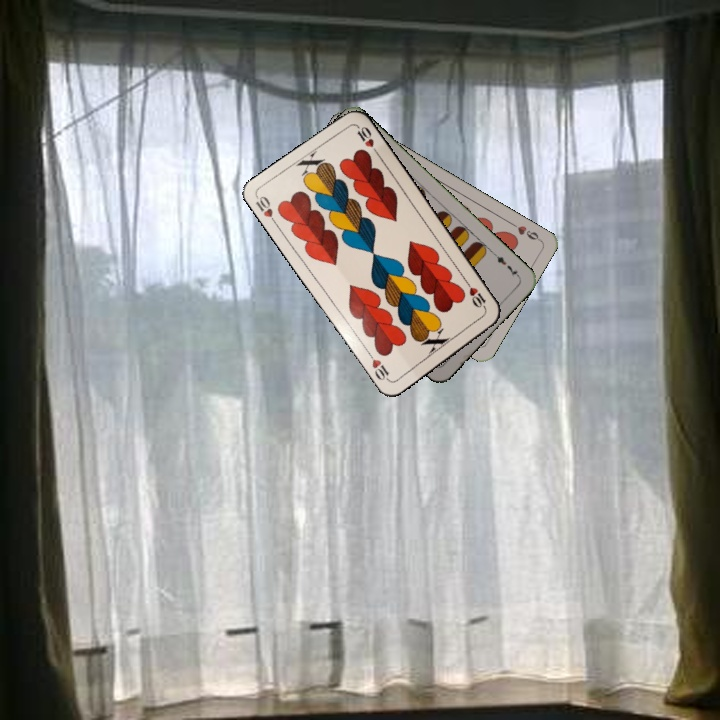E7: (489, 249, 522, 280)
H10: (252, 192, 281, 229), (462, 277, 489, 313)
H9: (506, 218, 543, 243)
